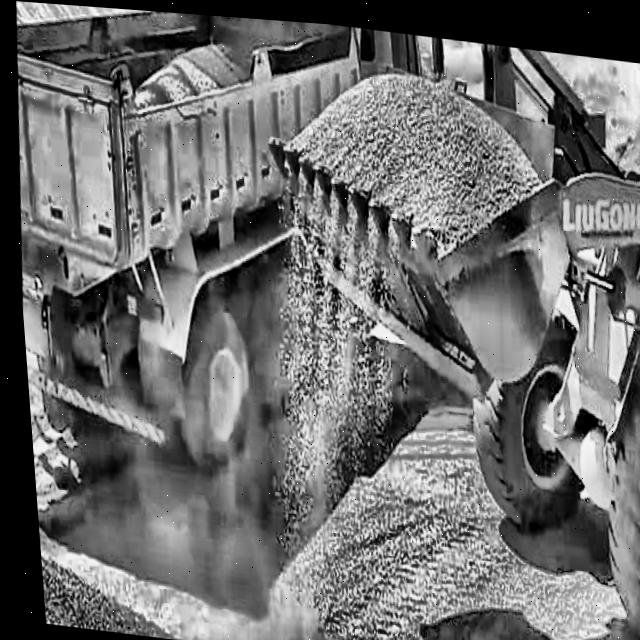buldozerpayloadergrader: (232, 14, 640, 640)
dump_truck: (0, 0, 471, 499)
